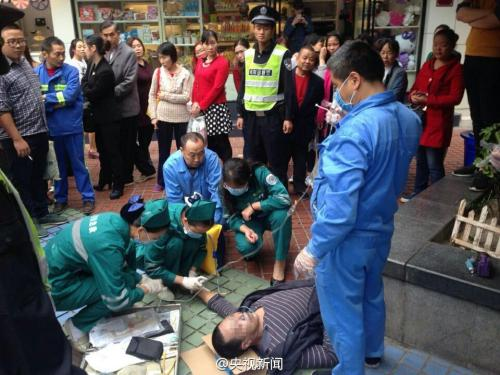10+: (1, 1, 500, 375)
down: (183, 269, 343, 374)
